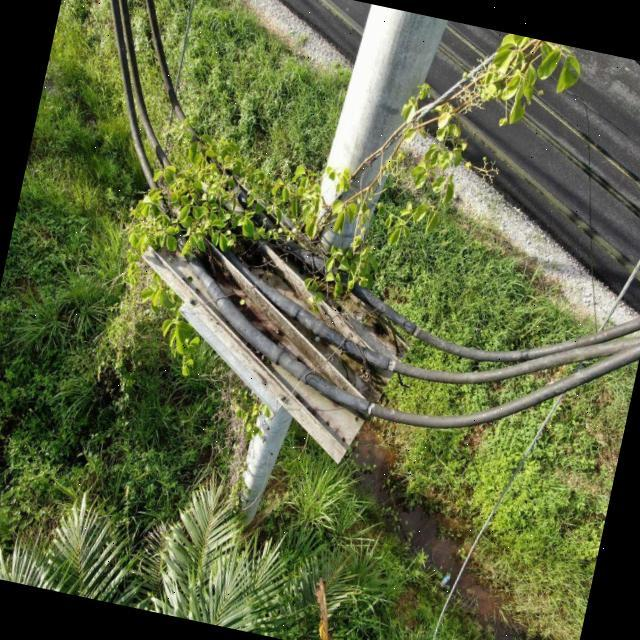critical vegetation: (72, 68, 482, 472)
